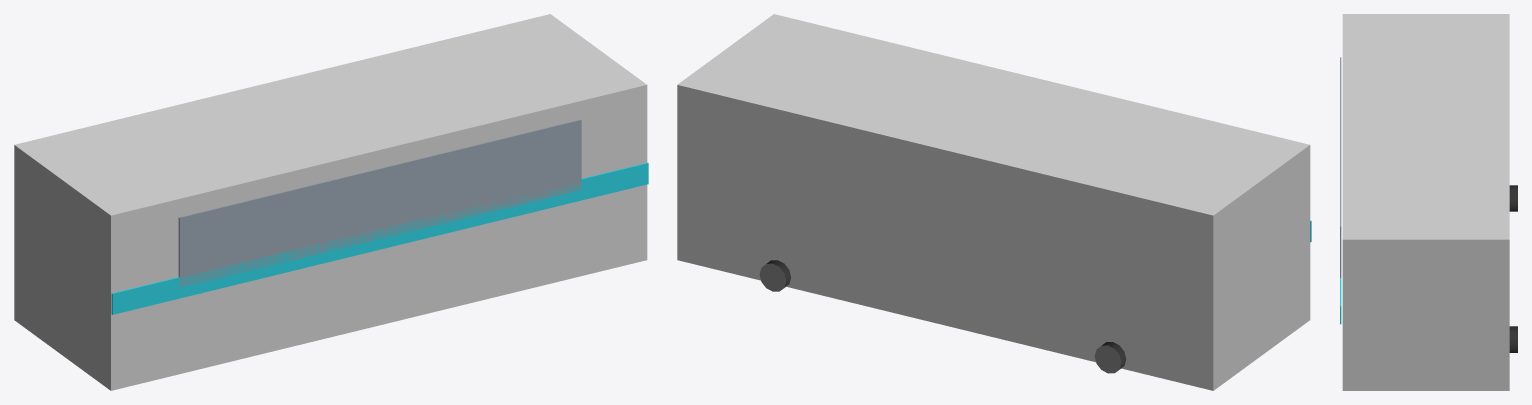
Rendered from env-mod-bus.glb.
The picture shows the model from 3 angles, left to right: view 1: azimuth 30°, elevation 25°; view 2: azimuth 150°, elevation 25°; view 3: azimuth 270°, elevation 25°; orthographic projection. The views are drawn at different scales.
Bounding box in the file's own units: 8 × 2.55 × 2.66.
